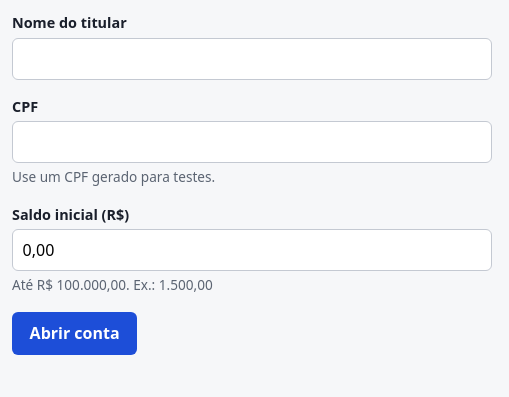
it: AccountForm › [WEB-AC-02] enviar com CPF inválido não chama a action
Type "Maria Teste" into the field labelled "Nome do titular".
click(252, 59); type("Maria Teste")  # box [12,38,492,80]
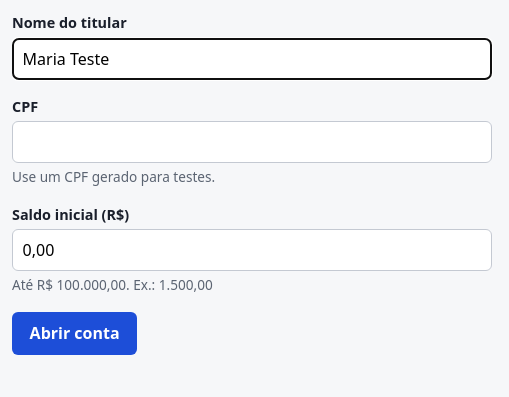
Type "11111111111" into the field labelled "CPF".
click(252, 142); type("11111111111")  # box [12,121,492,163]
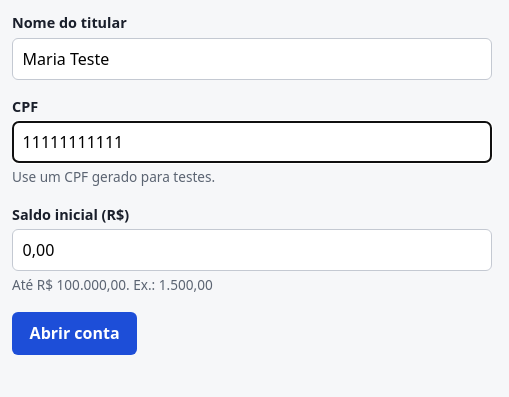
Click the button "Abrir conta".
click(75, 333)  # box [12,312,137,355]
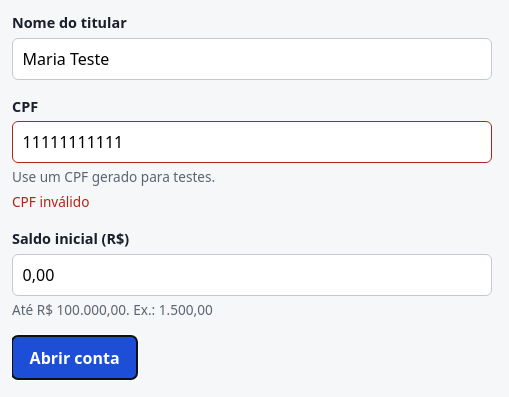
Expected: the text "CPF inválido" is shown, [12,192,90,211]
